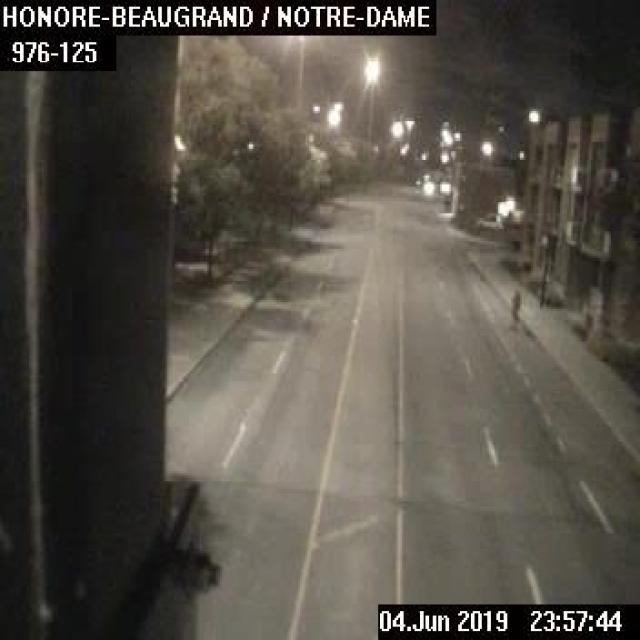pedestrian: (508, 288, 520, 323)
